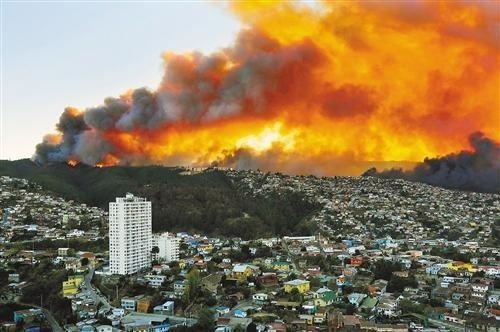fire: (97, 153, 119, 167)
